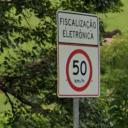speed_limit_50: (64, 48, 94, 93)
